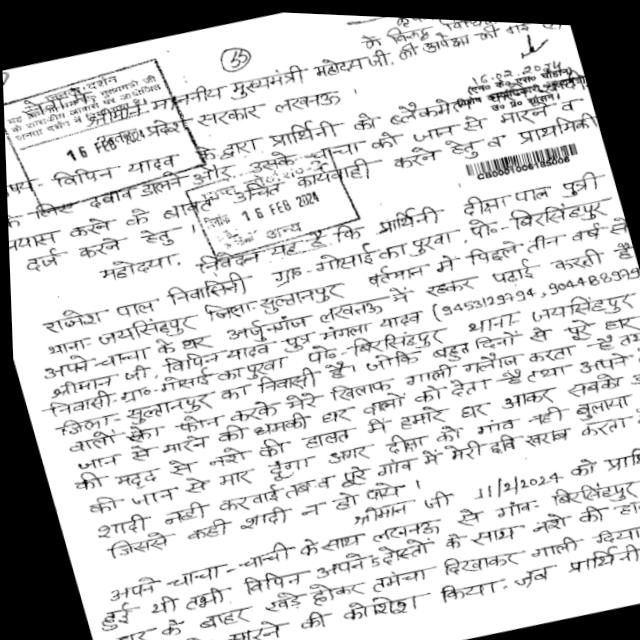antritgovtstamp: (172, 135, 382, 274)
barcode: (448, 127, 591, 194)
jantadarsan: (2, 43, 224, 229)
